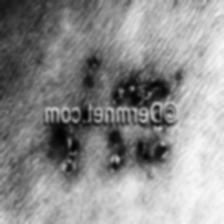Toxin: (110, 129, 169, 171)
